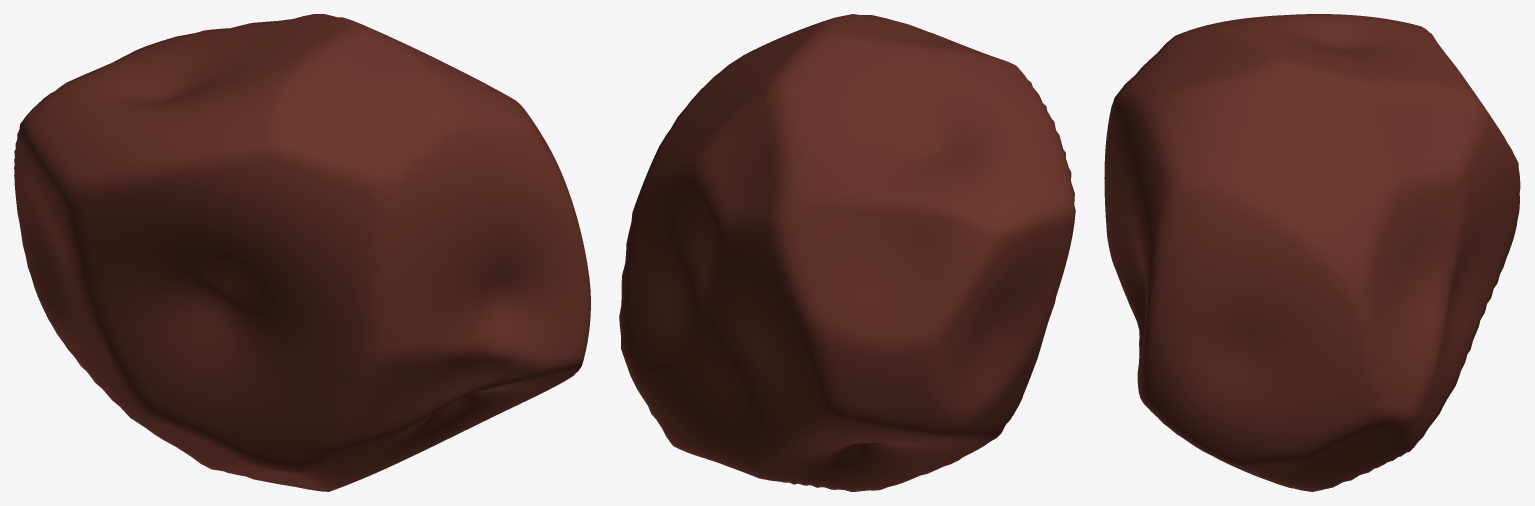
The model's file is rock.fbx.
3 views of the same model, side by side, from view 1: azimuth 30°, elevation 25°; view 2: azimuth 150°, elevation 25°; view 3: azimuth 270°, elevation 25° (orthographic). The views are drawn at different scales.
Parts seen in each view (by area): view 1: Cube; view 2: Cube; view 3: Cube.
Boxes of the visible parts, bbox=[...] form: Cube: bbox=[14, 14, 590, 491]; Cube: bbox=[619, 14, 1075, 491]; Cube: bbox=[1104, 14, 1520, 491].
Bounding box in the file's own units: 218 × 212 × 197.
